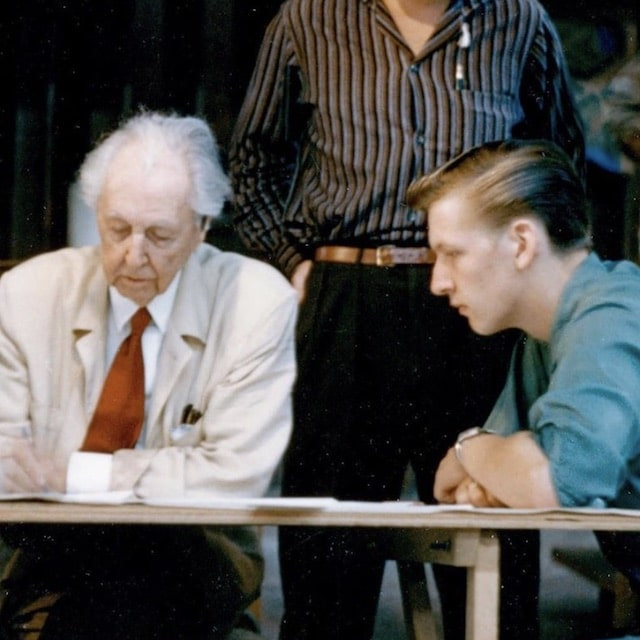human: (77, 118, 224, 302), (420, 173, 558, 337)
